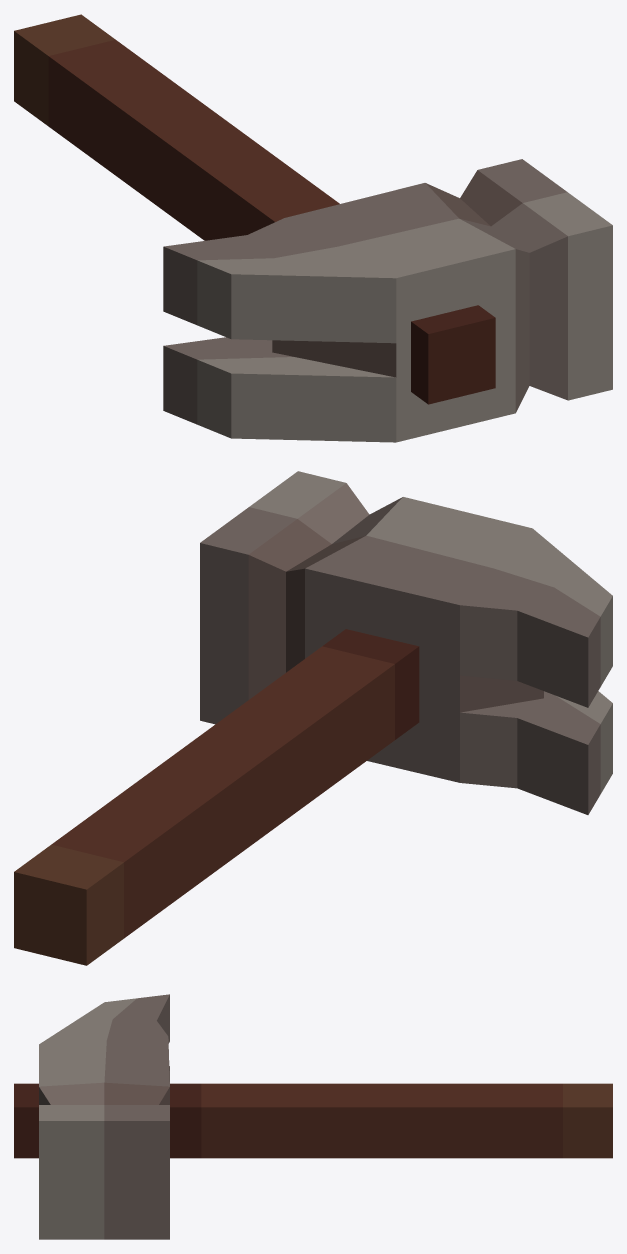
File: hammer.fbx
3 renders of one model, top to bottom at view 1: azimuth 30°, elevation 25°; view 2: azimuth 150°, elevation 25°; view 3: azimuth 270°, elevation 25°, orthographic. The views are drawn at different scales.
Visible parts, largest first — view 1: head, handle; view 2: head, handle; view 3: handle, head.
Part boxes in pixels (box(x1,y1,x2,y2)): head: box(163, 159, 612, 442); handle: box(14, 14, 495, 404); head: box(200, 471, 612, 814); handle: box(14, 629, 419, 965); handle: box(14, 1083, 612, 1158); head: box(39, 994, 169, 1239).
Bounding box in the file's own units: 63.75 × 27.89 × 128.
1 material, 1 textured.
